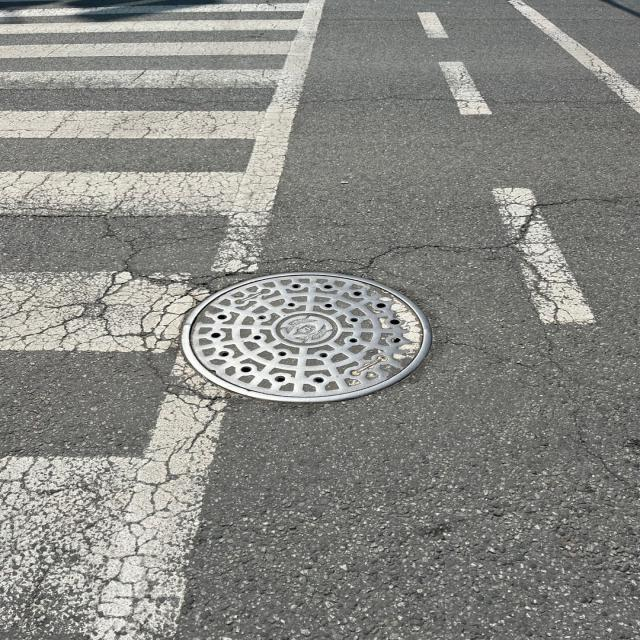Sewer Cover: (151, 252, 448, 416)
